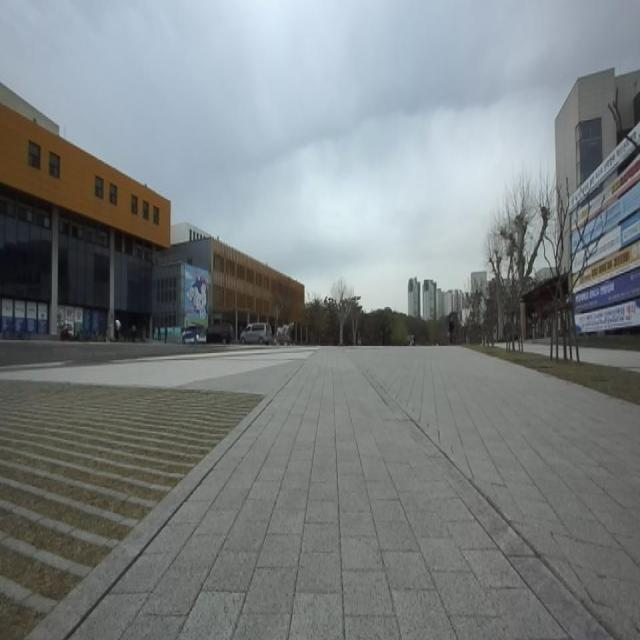sidewalk: (31, 351, 608, 639)
